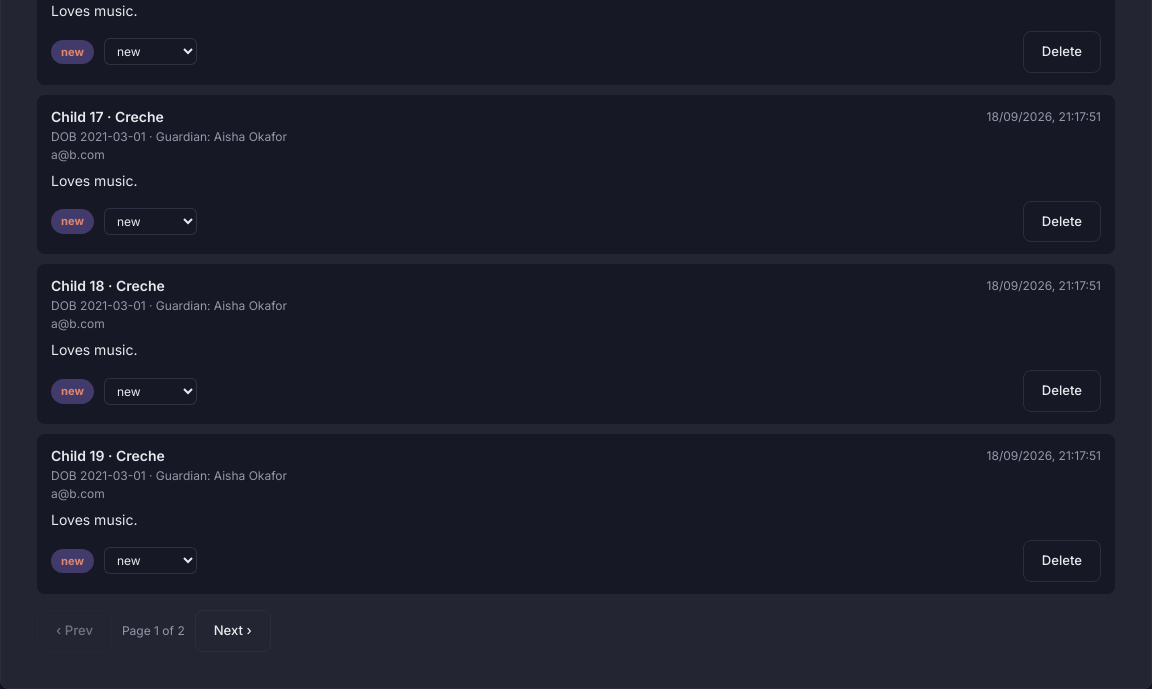
Test: AdminApplicationsList › paginates when there are more records than fit on one page
(page scrolled)
Expected: the text "Page 1 of 2" is shown, [122,623,185,639]
Expected: the text "Child 20 ·" is not shown
Click the button "Next ›".
click(233, 631)  # box [195,610,271,652]
(page scrolled)
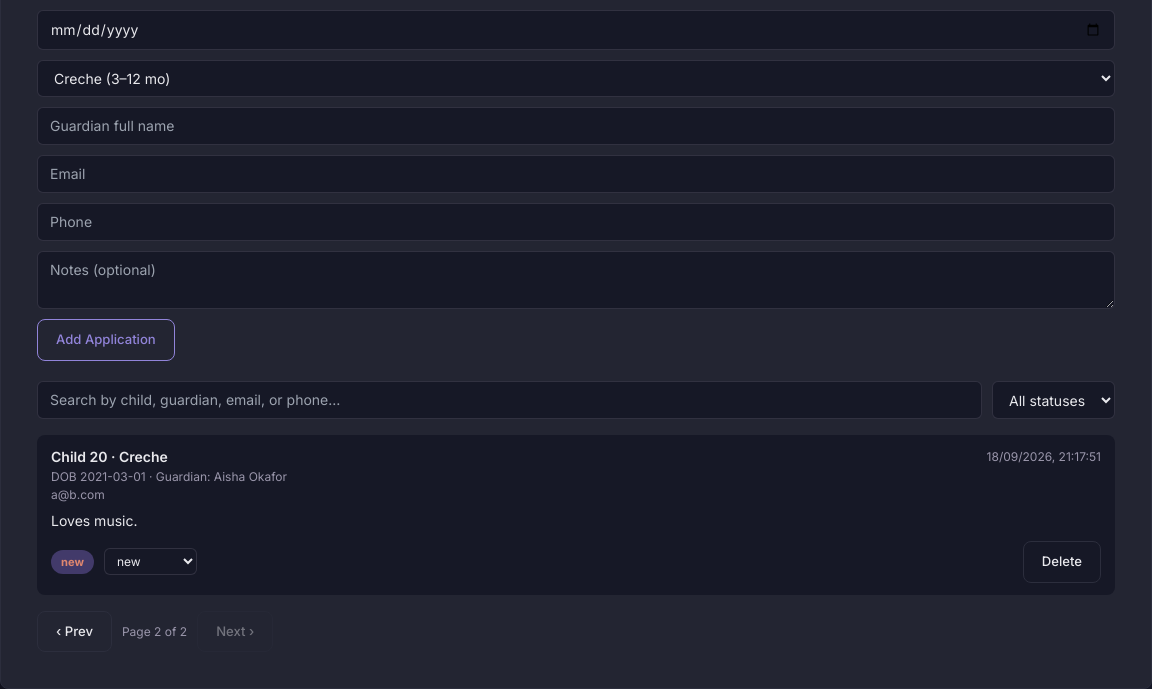
Now the text "Child 20 · Creche" is shown, box [51,447,168,467]
